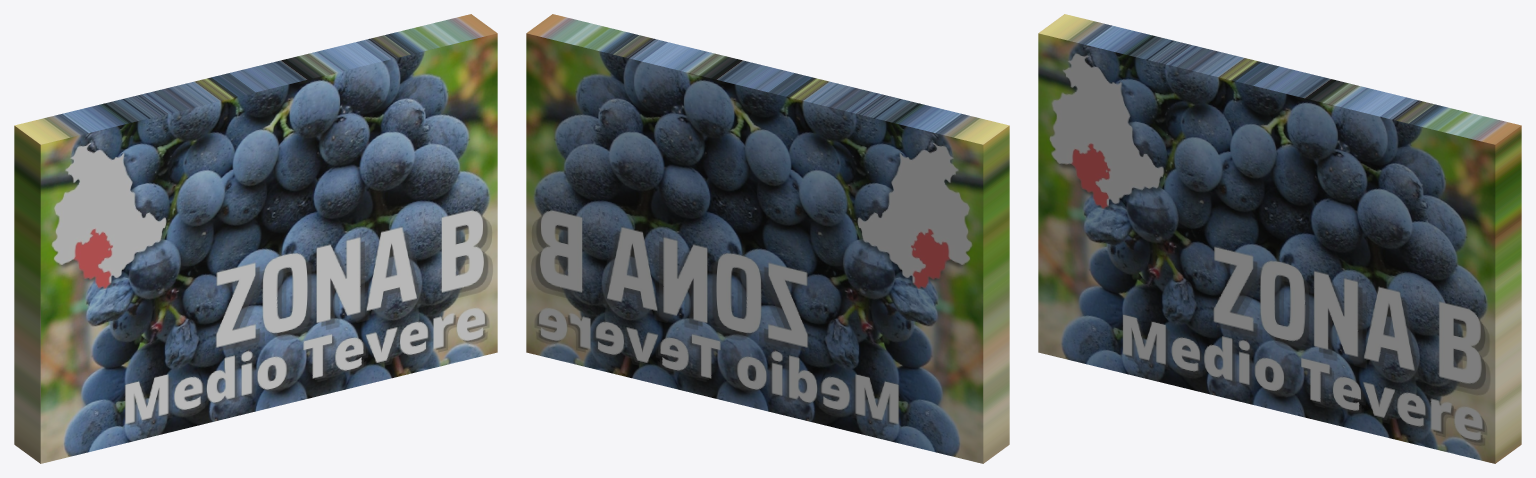
Rendered from Zona B.glb.
3 views of the same model, side by side, from view 1: azimuth 30°, elevation 25°; view 2: azimuth 150°, elevation 25°; view 3: azimuth 330°, elevation 25° (orthographic).
Size of the model in its own units: 0.2245 by 0.1499 by 0.0225.
1 material, 1 textured.
